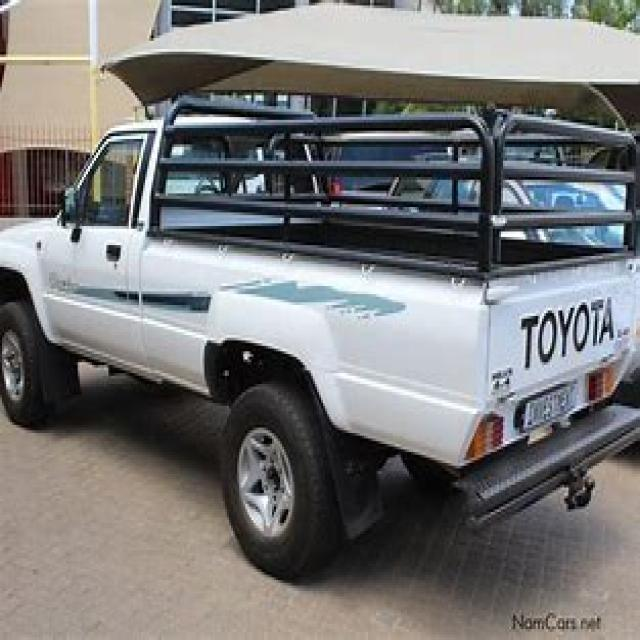light_vehicle: (2, 74, 638, 588)
